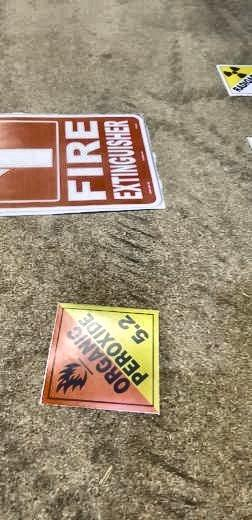organic-peroxide: (44, 301, 162, 416)
radioactive: (212, 61, 252, 98)
